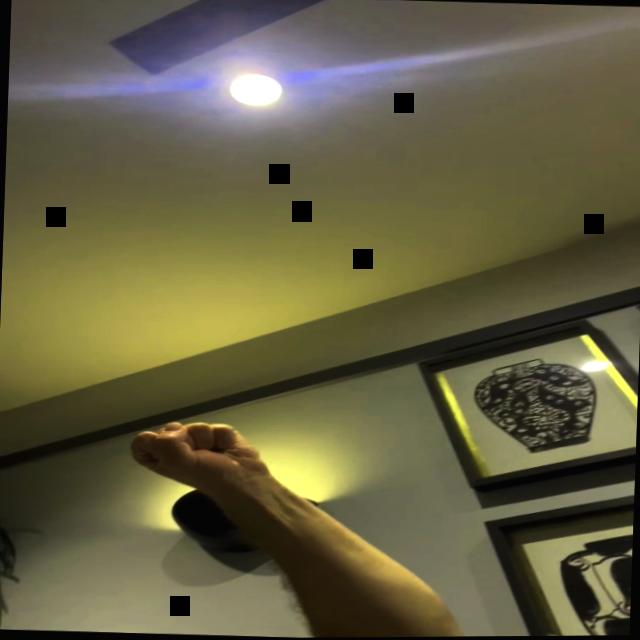Rock: (128, 416, 272, 490)
